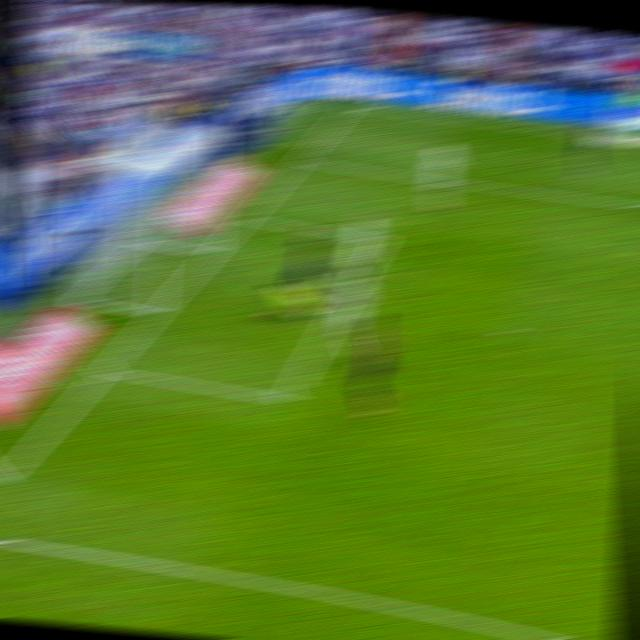bigarea_bottom_inner: (272, 383, 300, 413)
bottom_arc_area_intersection: (288, 150, 310, 167)
corner: (339, 99, 363, 112)
smallarea_bottom_outter: (91, 352, 118, 383)
